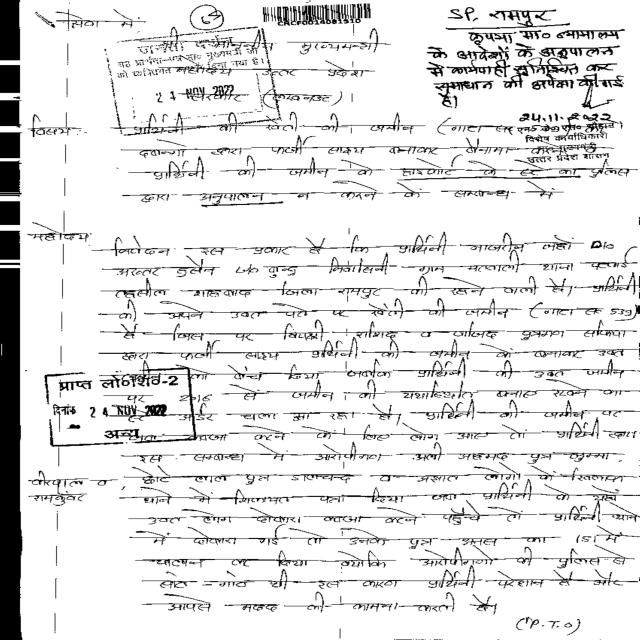antritgovtstamp: (106, 27, 283, 138), (42, 366, 200, 446)
barcode: (256, 0, 377, 28)
